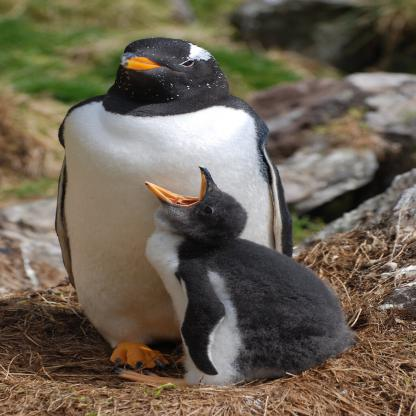Penguin: (41, 26, 331, 382), (125, 160, 388, 393)
